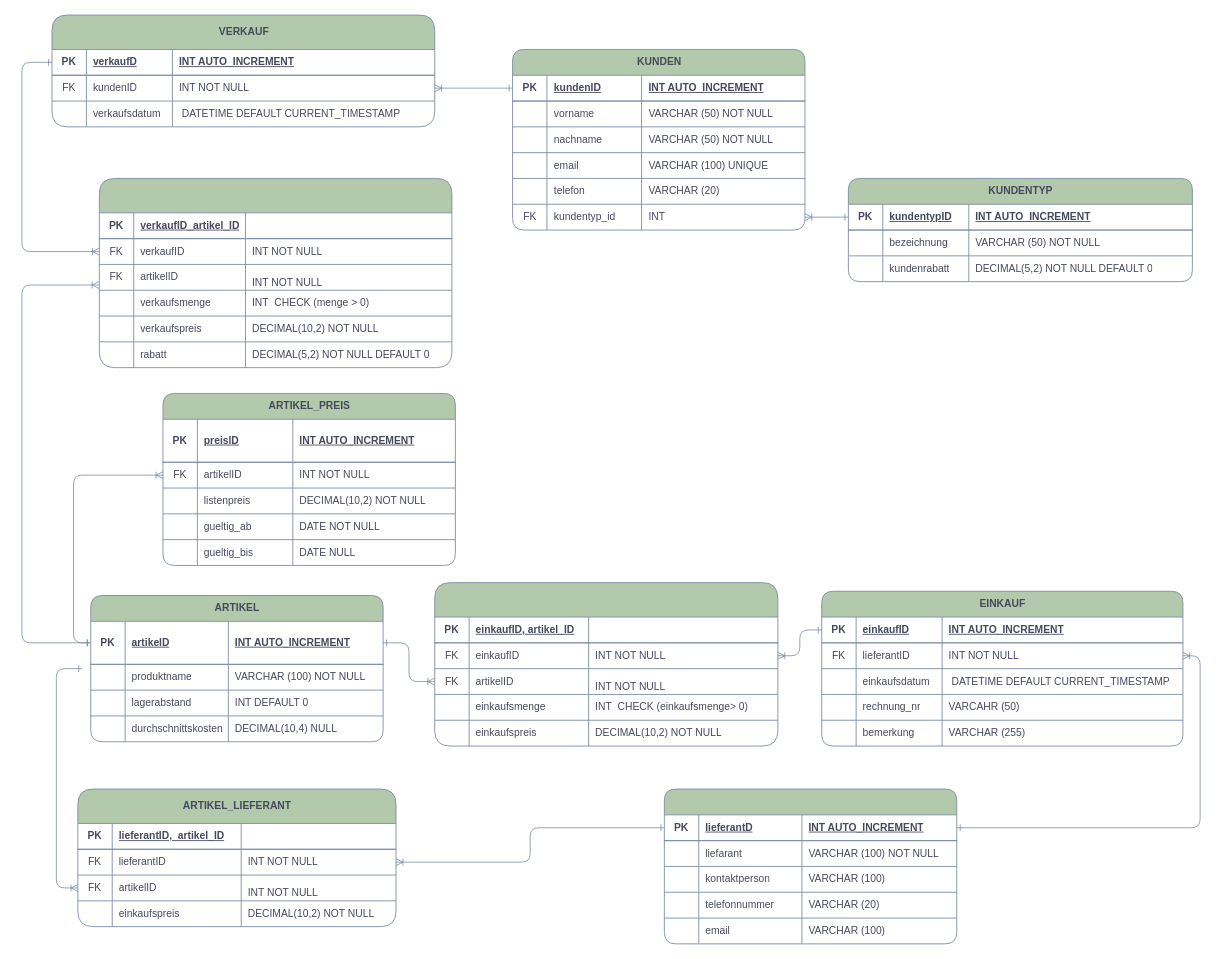
This 1223x959 diagram has some shape labels left out. Each missing label, with the box of its shape:
EINKAUF_ARTIKEL: (434, 582, 778, 746)
LIEFERANTEN: (663, 788, 957, 944)
VERKAUF_ARTIKEL: (98, 178, 452, 368)
